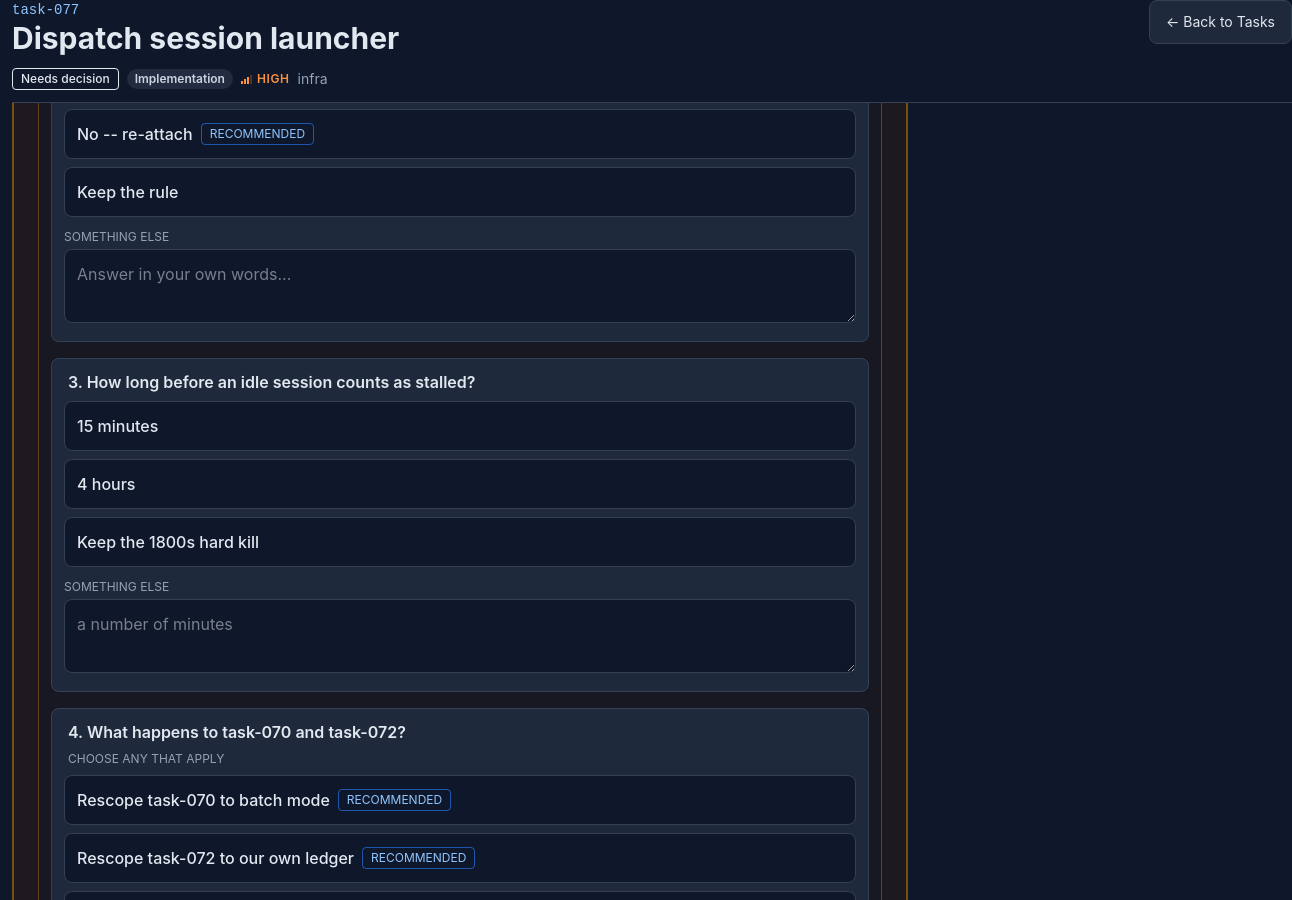
Test: answering structured questions › refuses to submit until something has been said
(page scrolled)
Click the button "4 hours" at (106, 484), box [64, 459, 856, 509]
(page scrolled)
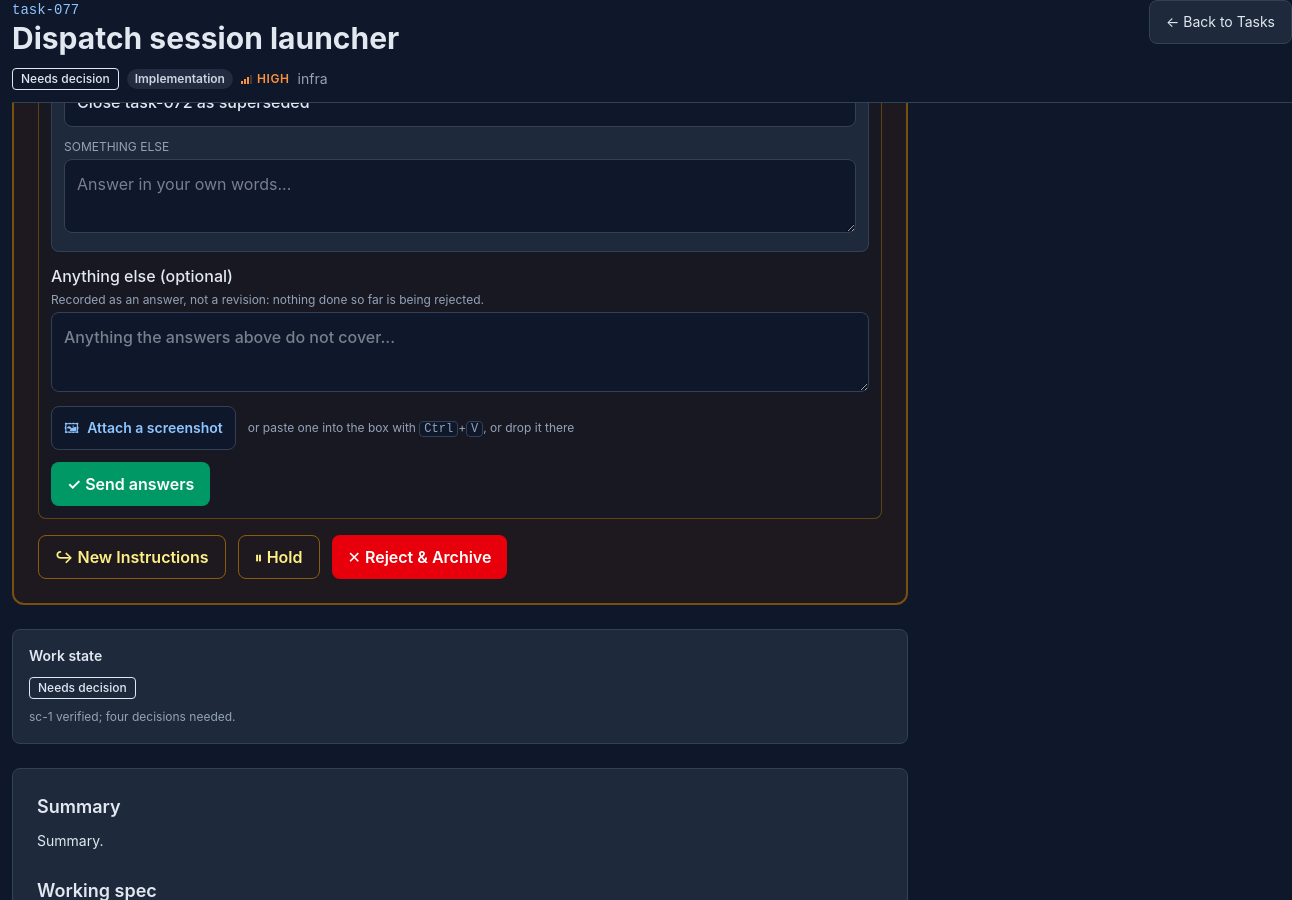
Now the button "✓ Send answers" is enabled, box [51, 462, 210, 506]
